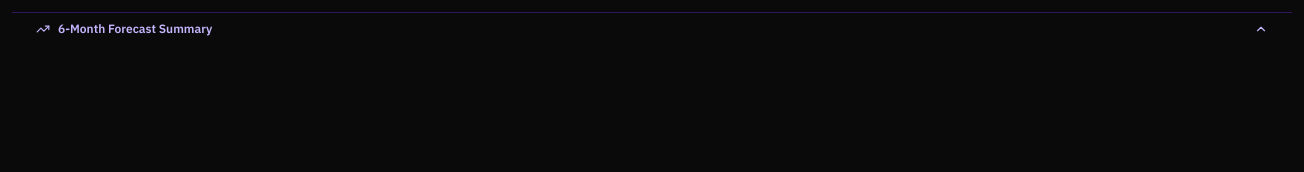
Test: ForecastSummaryPanel › on expand › shows error message when Supabase returns an error
The width and height of the screenshot is (1304, 172).
Click the button "6-Month Forecast Summary".
click(135, 28)  # box [12, 13, 1292, 45]
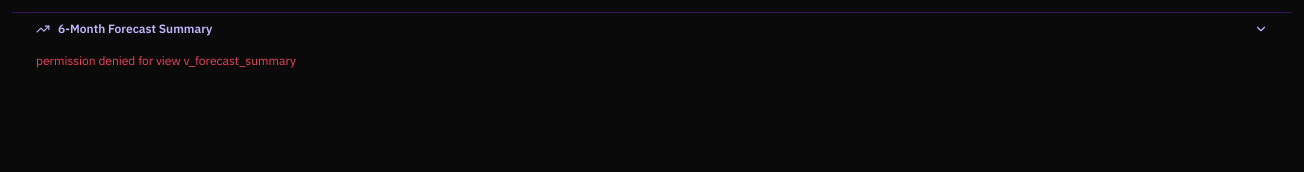
Now the text "permission denied for view v_forecast_summary" is shown, box [36, 53, 296, 68]
